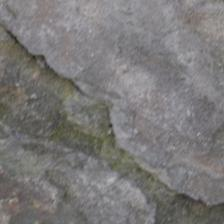Crack: (17, 82, 86, 224), (51, 71, 131, 157)
